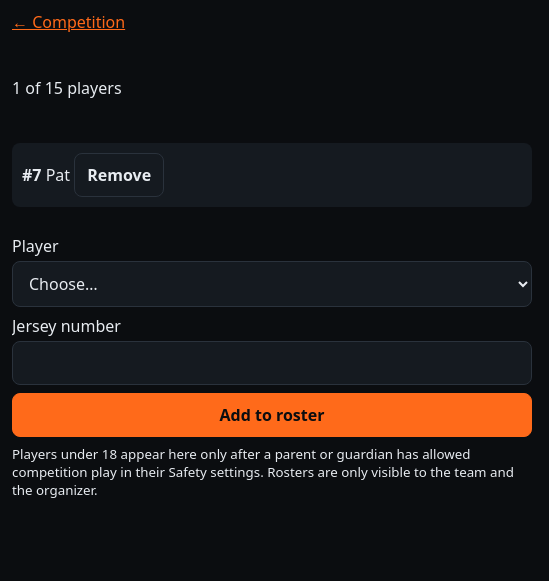
Scenario: RosterPanel › shows the server's reason when a jersey number is taken
Expected: the form named "Add a player" is shown, [12,235,532,499]
Select "Sam" in the dropdown labelled "Player". click: (272, 284)
box: [12,261,532,307]
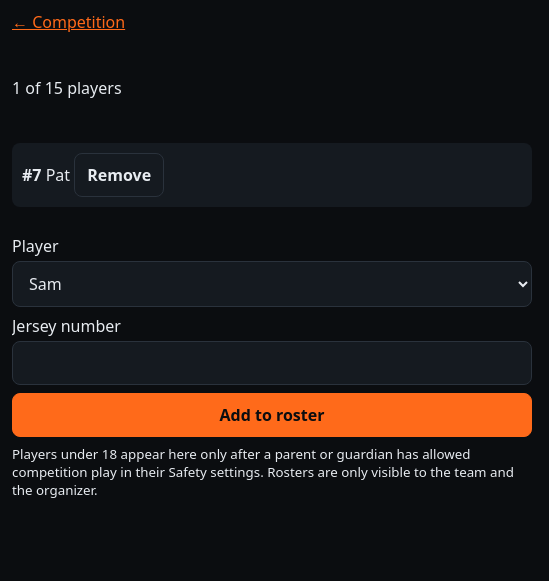
Type "7" into the number field labelled "Jersey number". click: (272, 363)
box: [12,341,532,385]
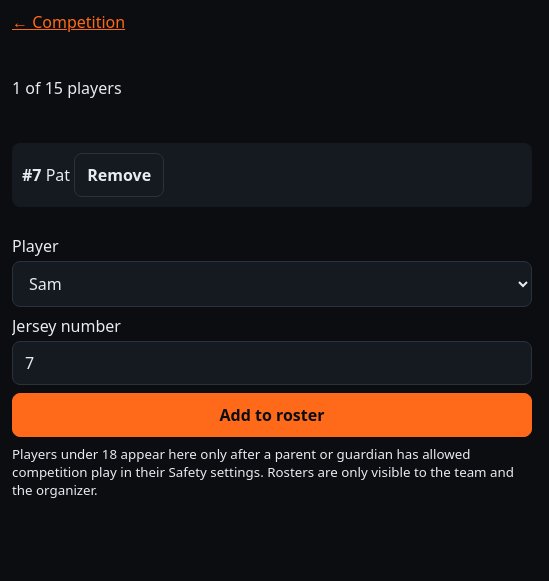
Click the button "Add to roster". click: (272, 415)
box: [12,393,532,437]
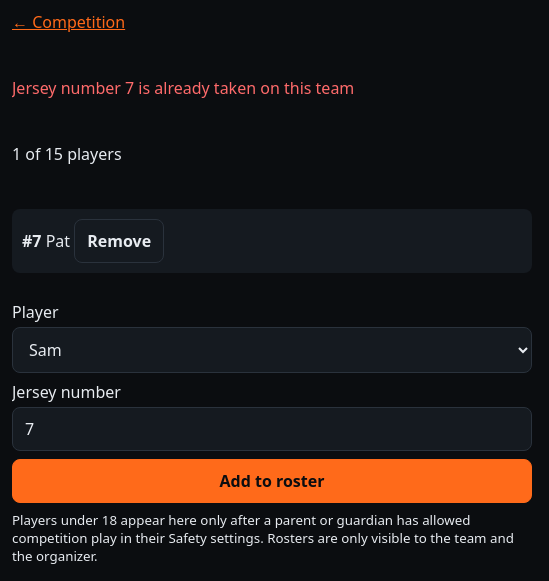
Expected: the message shows "already taken", [12,77,354,99]
